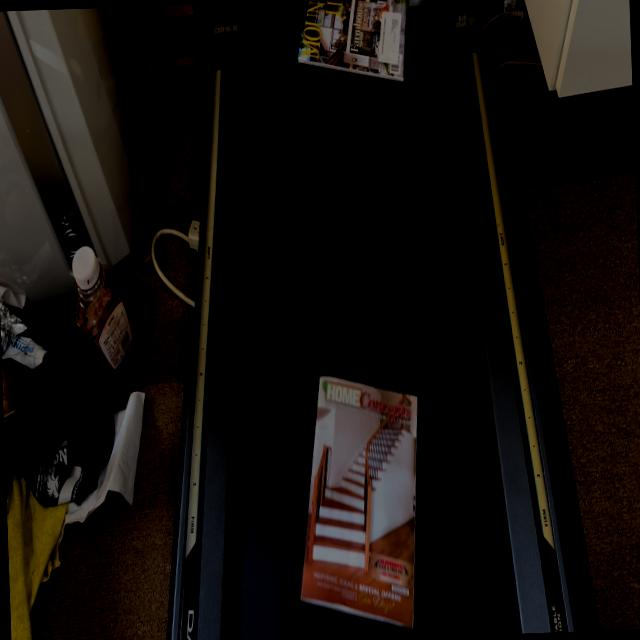Recycle: (292, 368, 428, 632), (294, 0, 413, 84)
